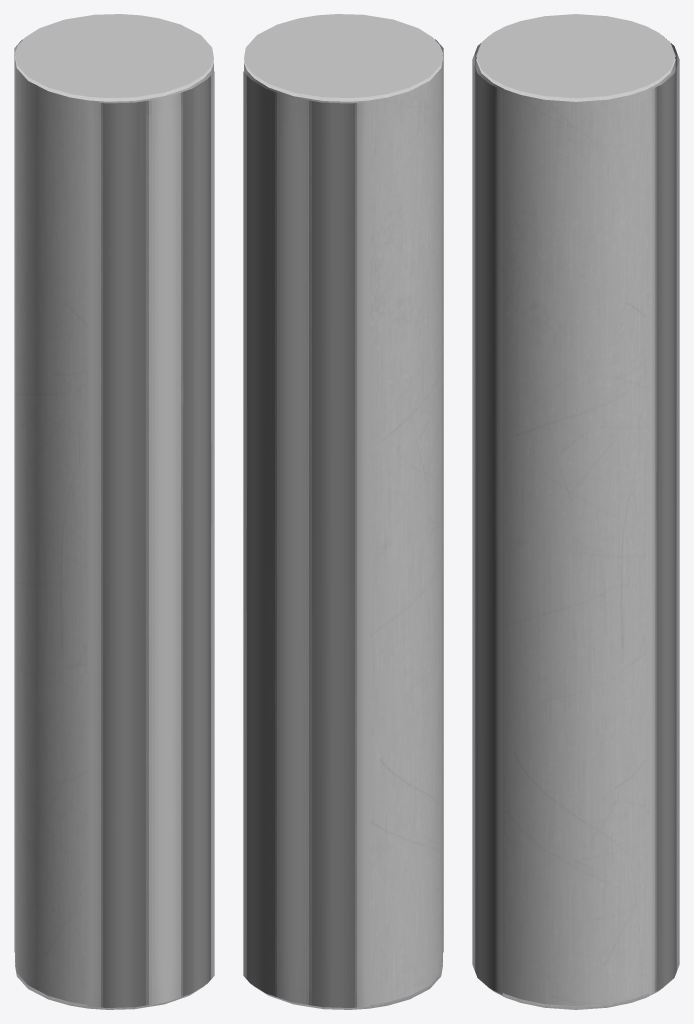
The model's file is shotgun.obj.
3 views of the same model, side by side, from view 1: azimuth 30°, elevation 25°; view 2: azimuth 150°, elevation 25°; view 3: azimuth 270°, elevation 25° (orthographic).
Parts seen in each view (by area): view 1: Shotgun5, Shotgun1, Shotgun2, Shotgun4, Shotgun3; view 2: Shotgun4, Shotgun1, Shotgun2, Shotgun5, Shotgun3; view 3: Shotgun1, Shotgun4, Shotgun5, Shotgun2, Shotgun3.
Part boxes in pixels (bbox=[...]): Shotgun5: bbox=[87, 71, 214, 1007]; Shotgun1: bbox=[15, 56, 213, 1004]; Shotgun2: bbox=[15, 14, 213, 97]; Shotgun4: bbox=[14, 39, 22, 952]; Shotgun3: bbox=[15, 964, 204, 1009]; Shotgun4: bbox=[243, 71, 370, 1007]; Shotgun1: bbox=[244, 56, 442, 1004]; Shotgun2: bbox=[244, 14, 442, 97]; Shotgun5: bbox=[435, 39, 443, 952]; Shotgun3: bbox=[253, 964, 442, 1009]; Shotgun1: bbox=[476, 58, 675, 1006]; Shotgun4: bbox=[649, 36, 679, 994]; Shotgun5: bbox=[472, 36, 502, 994]; Shotgun2: bbox=[476, 14, 675, 98]; Shotgun3: bbox=[491, 989, 660, 1009].
Size of the model in its own units: 1 by 5.04 by 1.04.
